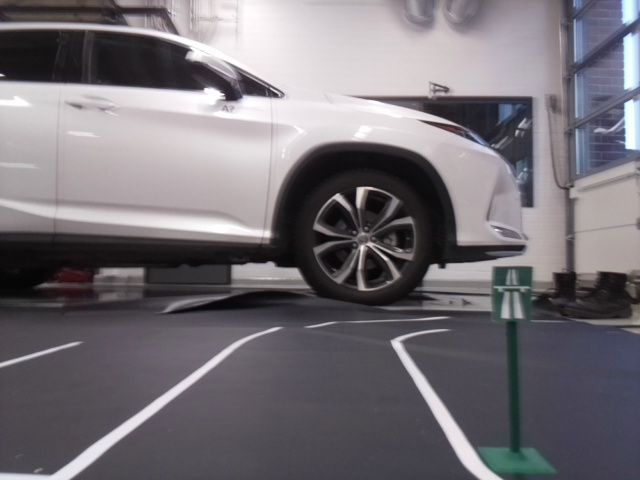HighwayEntrance: (492, 268, 529, 320)
